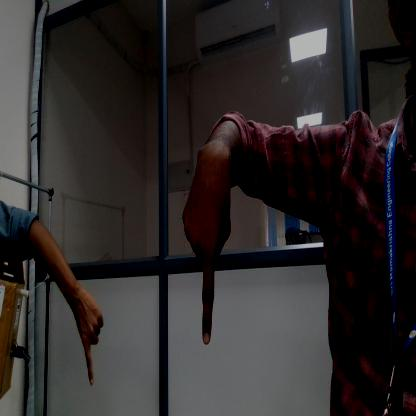Down: (180, 142, 240, 351), (62, 288, 121, 398)
